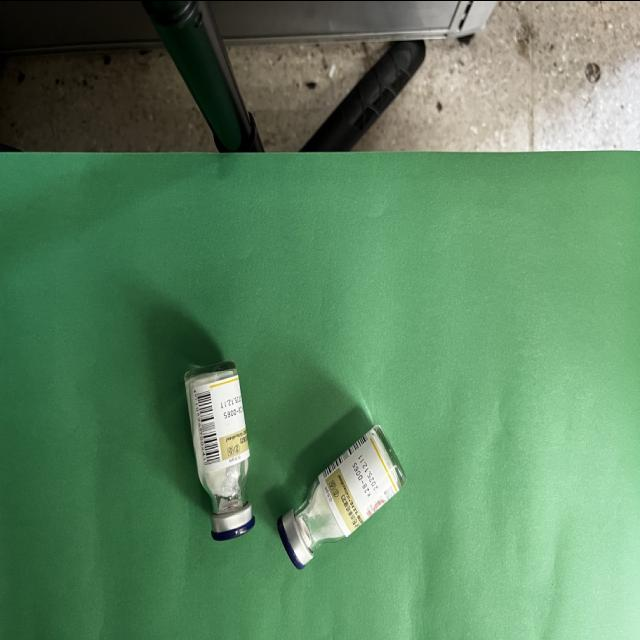Vials: (278, 424, 406, 568), (184, 361, 255, 539)
